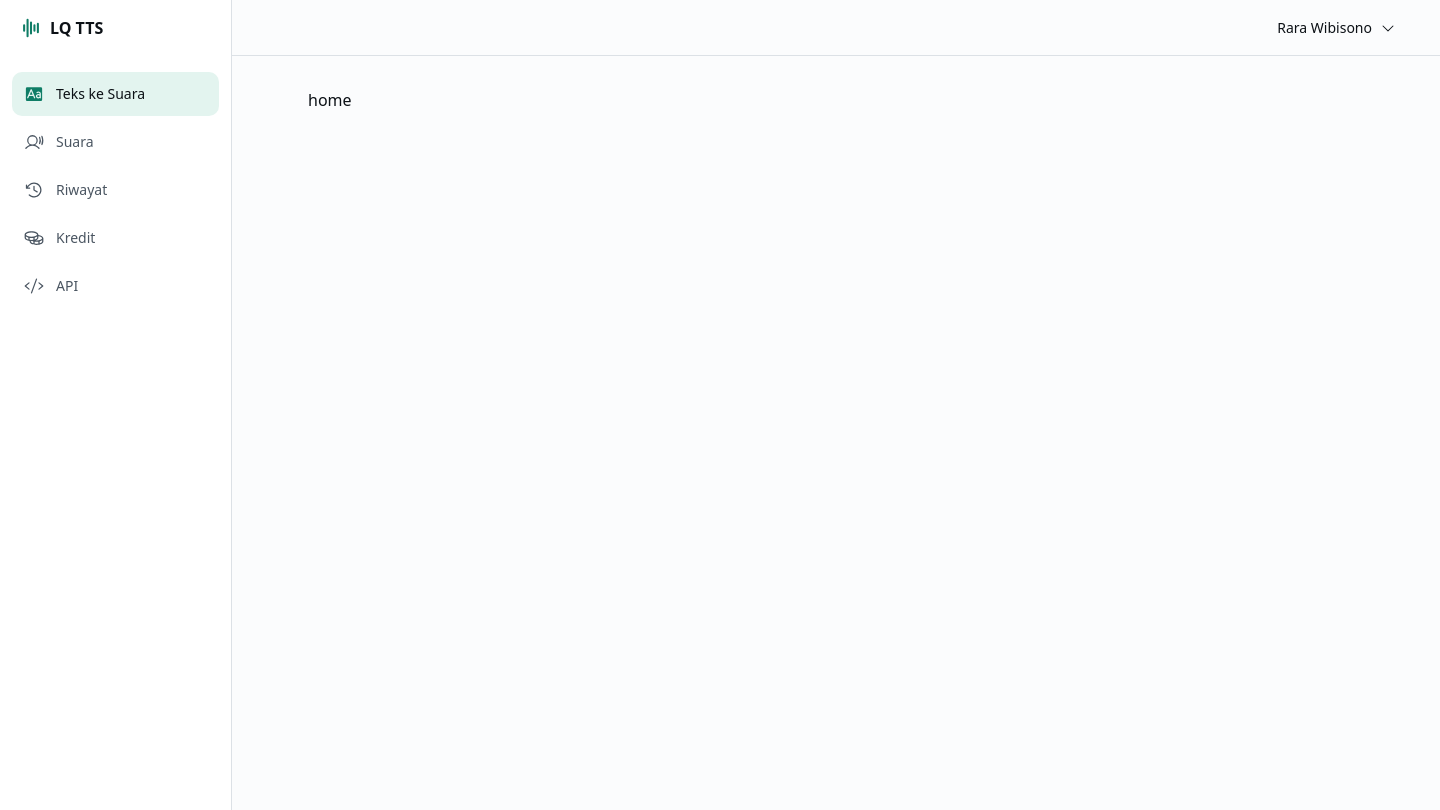
Test: AppShell › closes the account menu with Escape and returns focus to its button
Click the button with test id "account-button". click: (1337, 28)
box: [1265,8,1408,48]
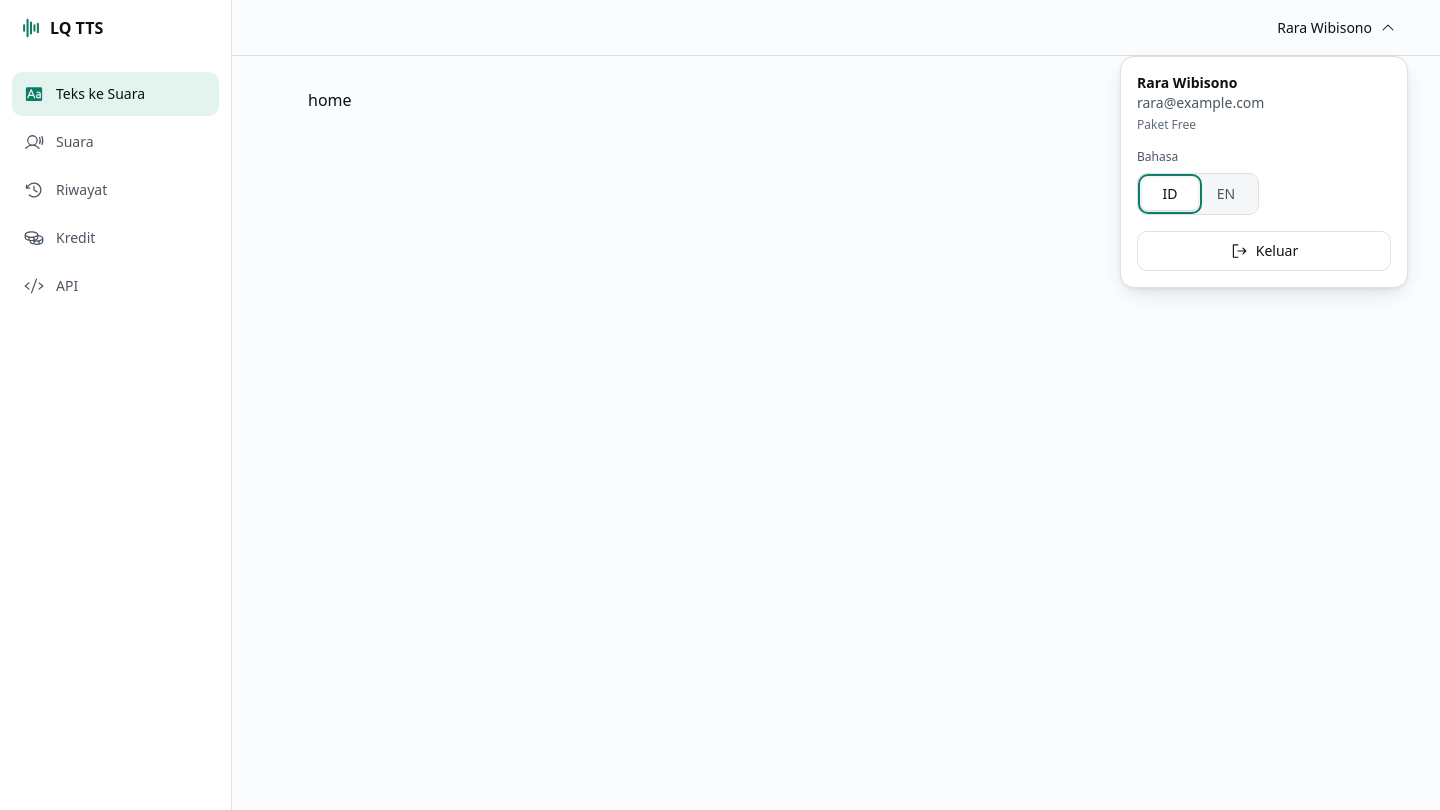
expect the text "rara@example.com" is shown: met, box [1137,92,1264,112]
Press Escape
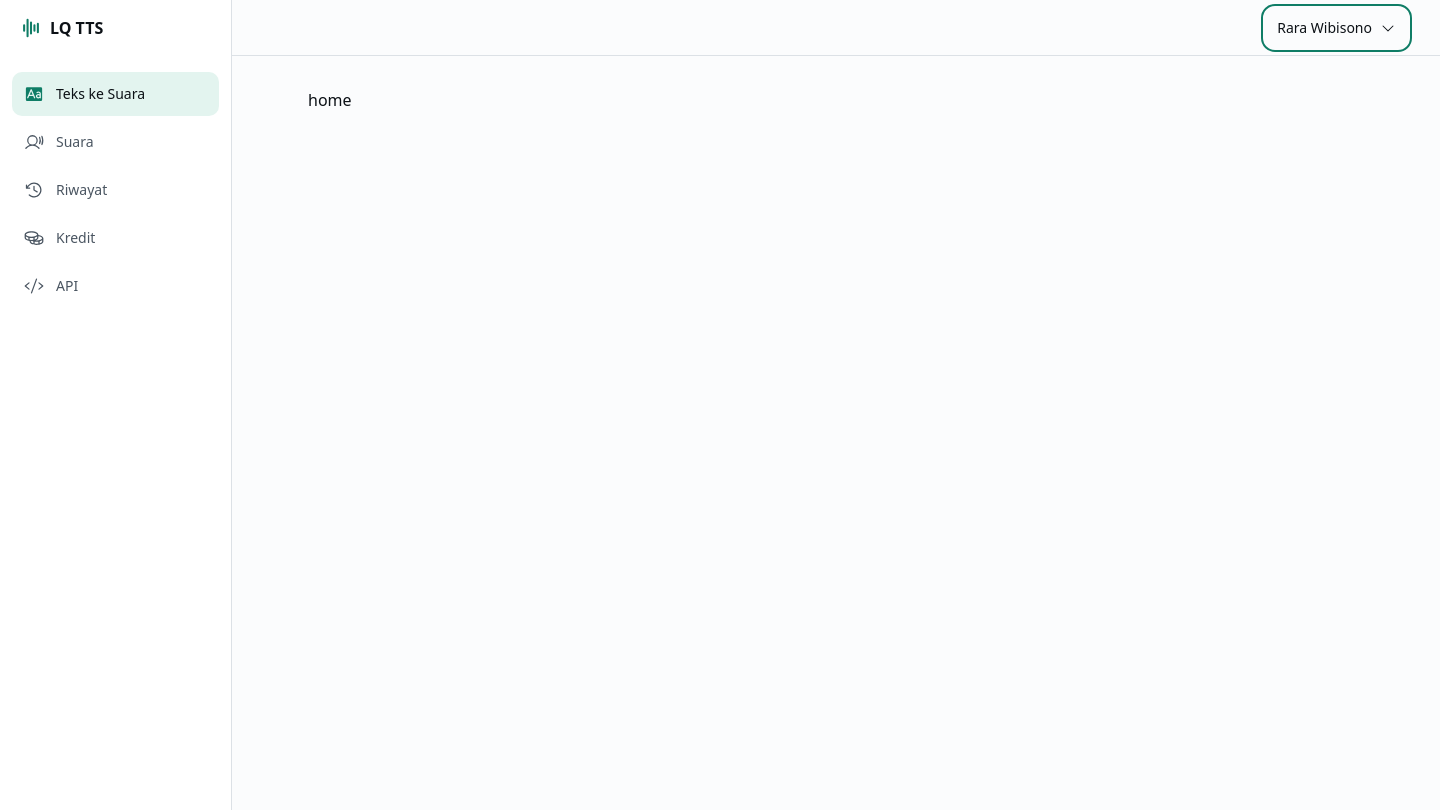
expect the text "rara@example.com" is gone: met
